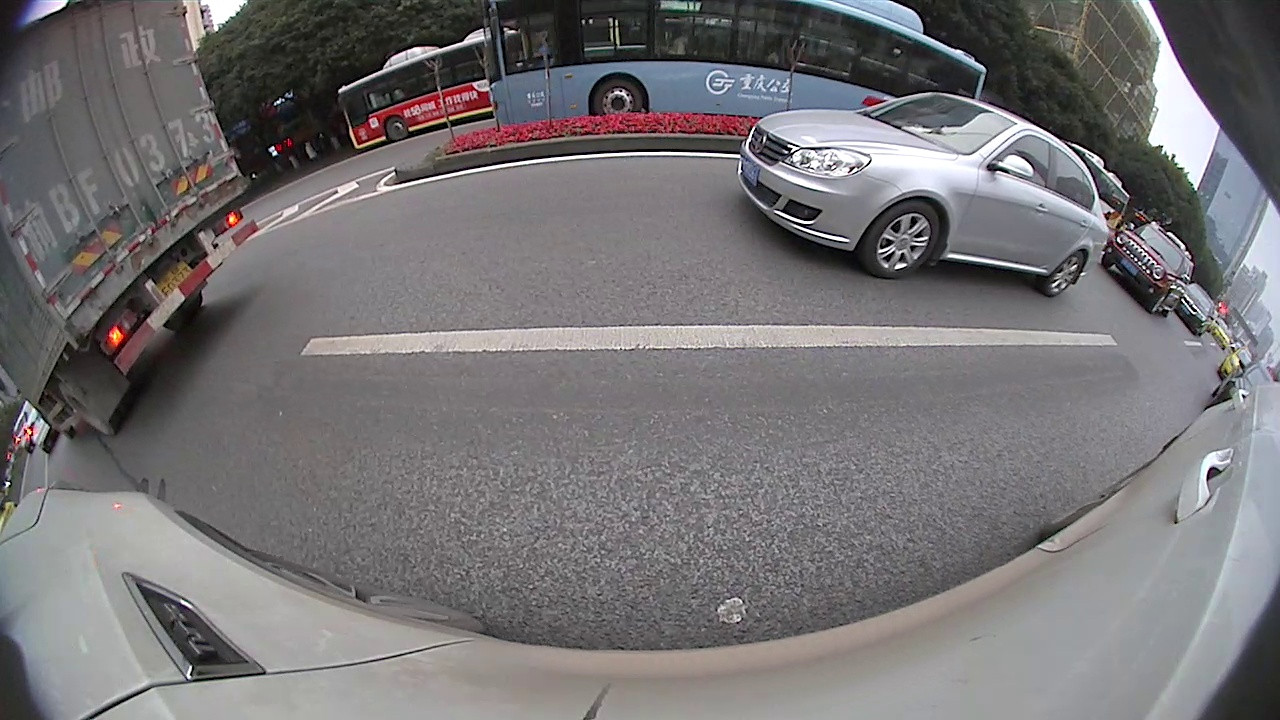bus: (480, 2, 990, 133), (336, 24, 524, 152), (1061, 140, 1128, 238)
car: (736, 91, 1108, 302), (1106, 218, 1193, 316), (1177, 289, 1218, 333)
front: (855, 197, 943, 281), (590, 75, 645, 116), (386, 116, 407, 141)
rear: (1032, 249, 1086, 299)
truck: (0, 4, 252, 440)
